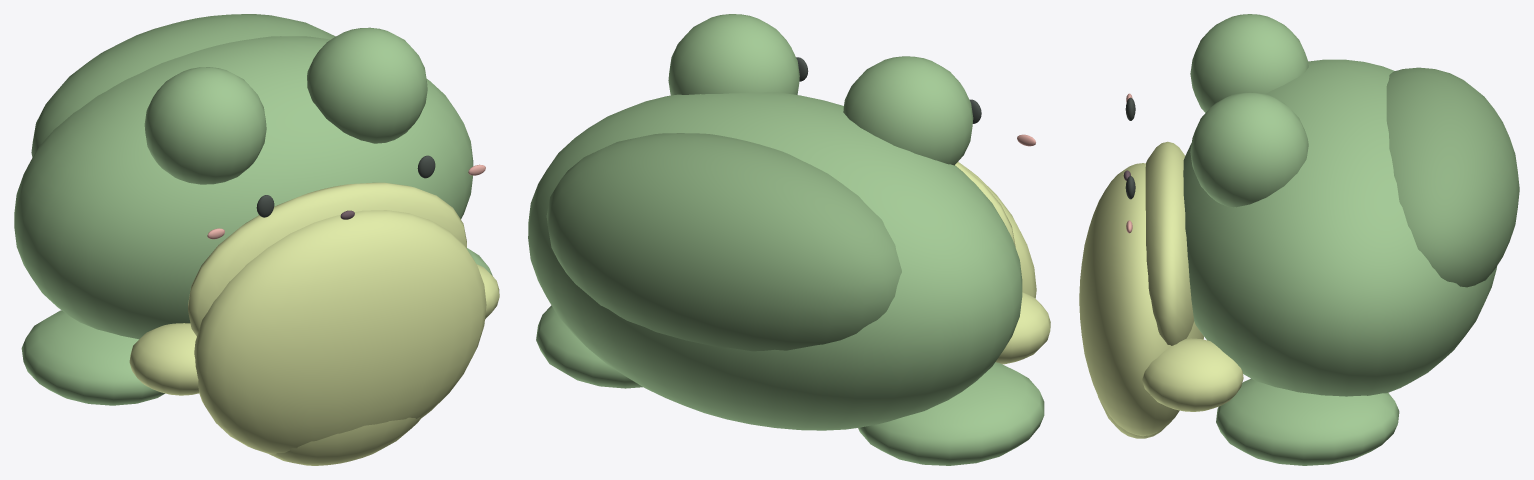
Rendered from great-marsh-frog.glb.
3 renders of one model, left to right at view 1: azimuth 30°, elevation 25°; view 2: azimuth 150°, elevation 25°; view 3: azimuth 270°, elevation 25°, orthographic. The views are drawn at different scales.
Visible parts, largest first — view 1: Body, GiantThroatSac, EyeMound_L, EyeMound_R, Belly, BackMass, Foot_L, Paw_L, ThroatLowerLobe, Paw_R; view 2: Body, BackMass, Foot_L, EyeMound_L, EyeMound_R, Foot_R, Paw_L, GiantThroatSac, Belly; view 3: Body, BackMass, GiantThroatSac, Foot_R, EyeMound_R, EyeMound_L, Belly, Paw_R.
Part boxes in pixels (x1,y1,x2,y2): Body: (14,36,473,339); GiantThroatSac: (194,210,486,454); EyeMound_L: (144,67,266,184); EyeMound_R: (307,27,427,143); Belly: (188,182,466,336); BackMass: (31,14,335,157); Foot_L: (21,310,165,405); Paw_L: (129,323,199,395); ThroatLowerLobe: (269,417,420,465); Paw_R: (476,264,499,319); Body: (528,92,1022,430); BackMass: (546,133,901,351); Foot_L: (858,362,1044,465); EyeMound_L: (843,56,973,165); EyeMound_R: (668,14,799,95); Foot_R: (536,305,642,388); Paw_L: (995,292,1050,364); GiantThroatSac: (958,162,1036,298); Belly: (955,162,1015,246); Body: (1183,59,1496,396); BackMass: (1386,67,1519,287); GiantThroatSac: (1079,163,1203,436); Foot_R: (1216,378,1399,465); EyeMound_R: (1190,92,1308,207); EyeMound_L: (1190,14,1308,112); Belly: (1145,141,1194,345); Paw_R: (1142,338,1243,411).
Bounding box in the file's own units: 1.25 × 0.98 × 1.07.
